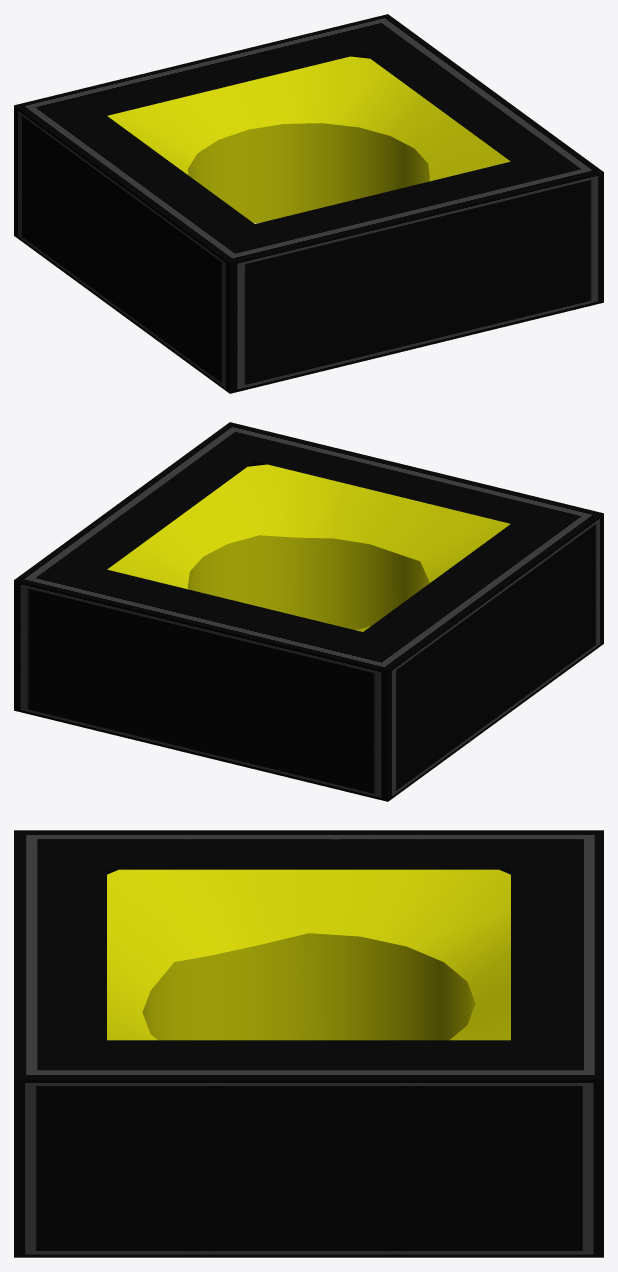
Rendered from EndGoal.fbx.
The picture shows the model from 3 angles, top to bottom: view 1: azimuth 30°, elevation 25°; view 2: azimuth 150°, elevation 25°; view 3: azimuth 270°, elevation 25°; orthographic projection. The views are drawn at different scales.
Visible parts, largest first — view 1: Base, Hole; view 2: Base, Hole; view 3: Base, Hole.
Part boxes in pixels (<box>): Base: <box>14,14,603,393</box>; Hole: <box>107,56,510,223</box>; Base: <box>14,422,603,801</box>; Hole: <box>107,464,510,631</box>; Base: <box>14,830,603,1257</box>; Hole: <box>107,869,510,1040</box>.
Bounding box in the file's own units: 15 × 5.25 × 15.
Materials: 2 (1 with a texture image).
